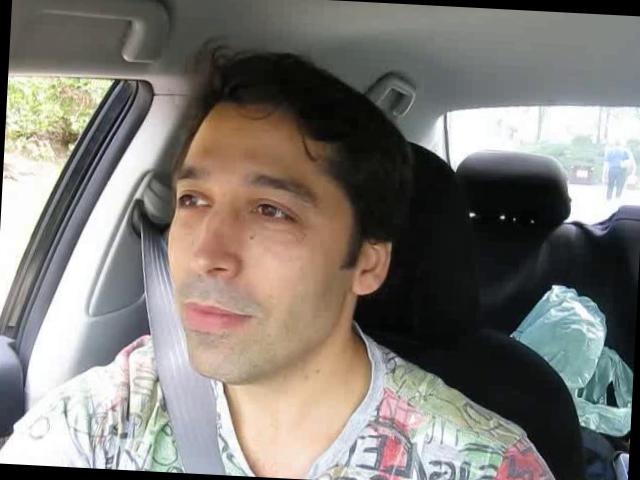eye_open: (248, 194, 302, 228), (172, 186, 214, 218)
face: (156, 153, 334, 386)
